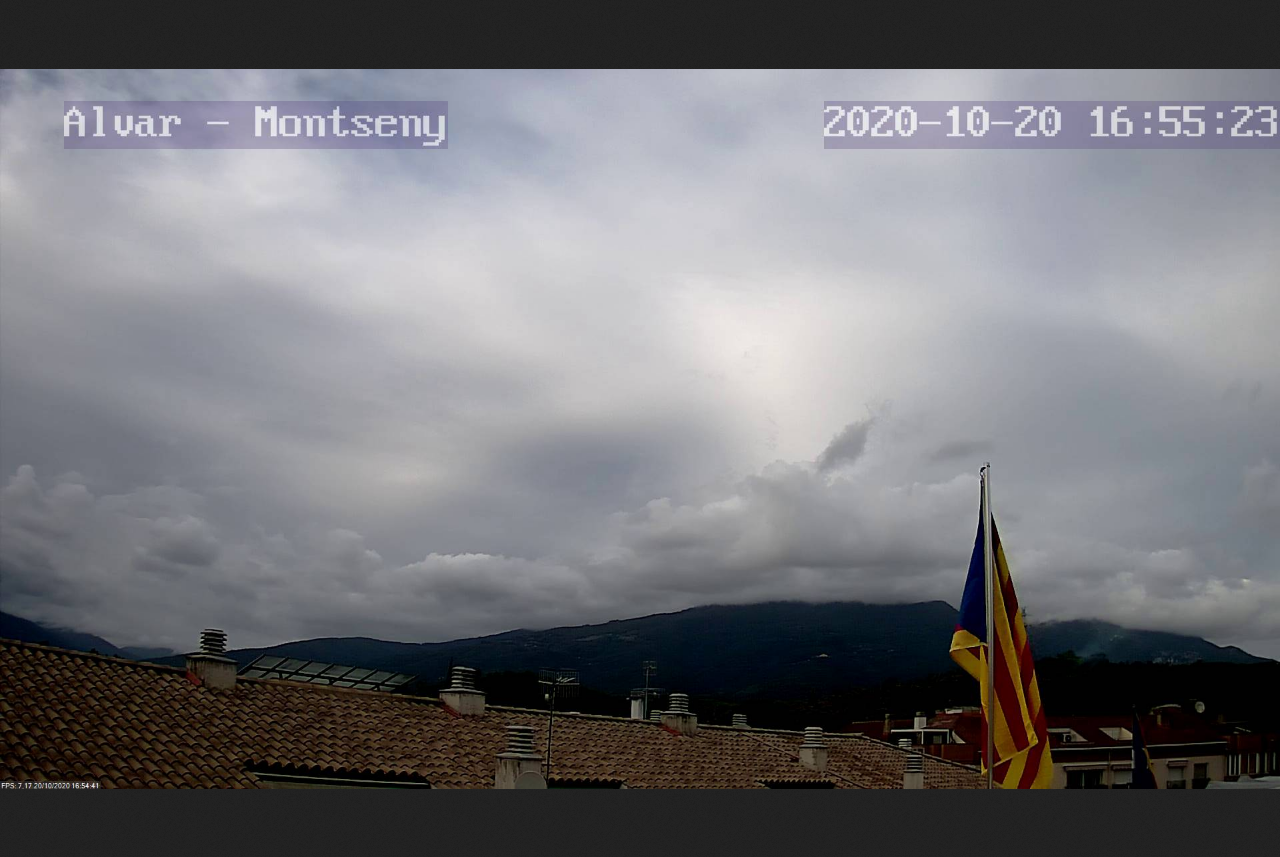no: (937, 480, 1069, 790)
